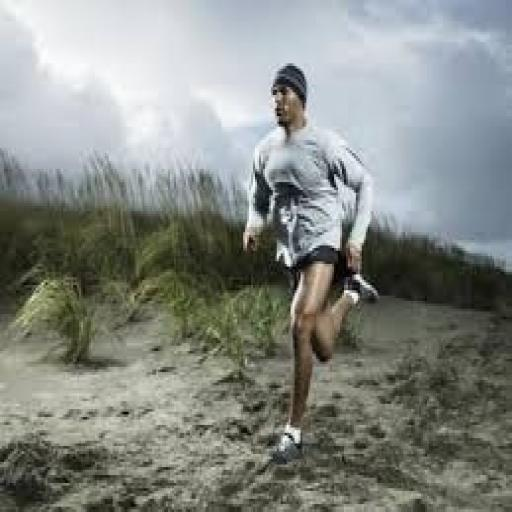running: (239, 60, 382, 464)
